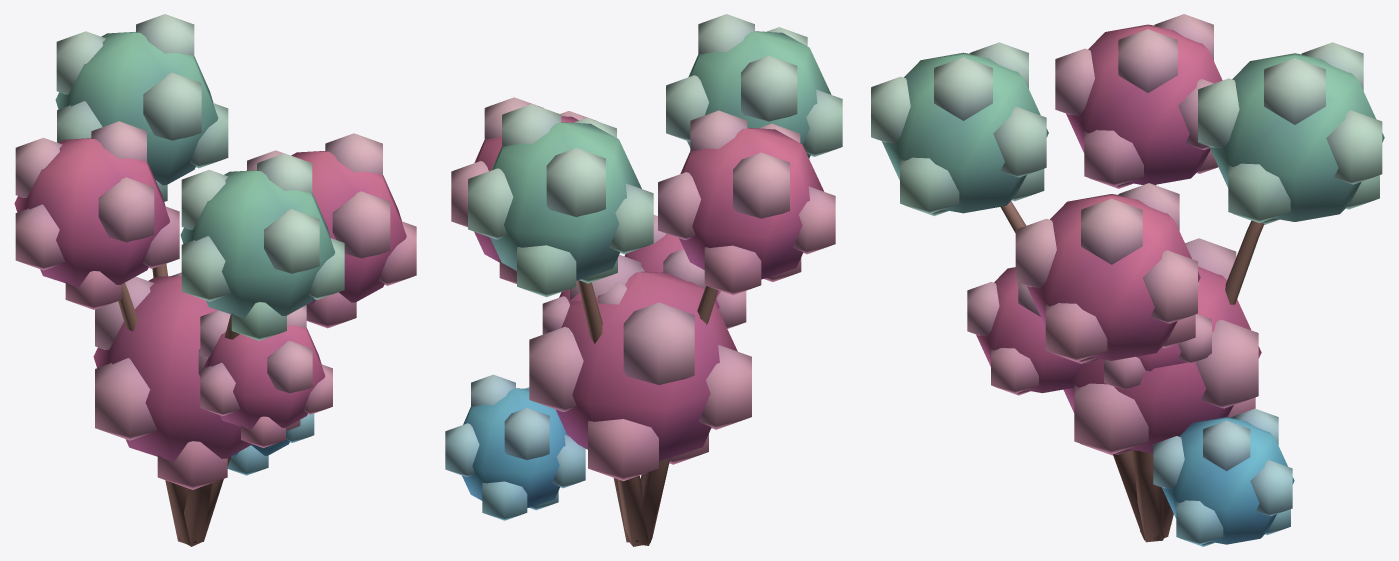
File: verdant_bush_puffball.glb
The picture shows the model from 3 angles, left to right: view 1: azimuth 30°, elevation 25°; view 2: azimuth 150°, elevation 25°; view 3: azimuth 270°, elevation 25°; orthographic projection. The views are drawn at different scales.
Parts seen in each view (by area): view 1: verdant_bush_puffball; view 2: verdant_bush_puffball; view 3: verdant_bush_puffball.
Part boxes in pixels (x1,y1,x2,y2): verdant_bush_puffball: (14, 14, 416, 546); verdant_bush_puffball: (445, 14, 842, 546); verdant_bush_puffball: (871, 14, 1384, 546).
Size of the model in its own units: 1.26 by 1.52 by 1.41.
